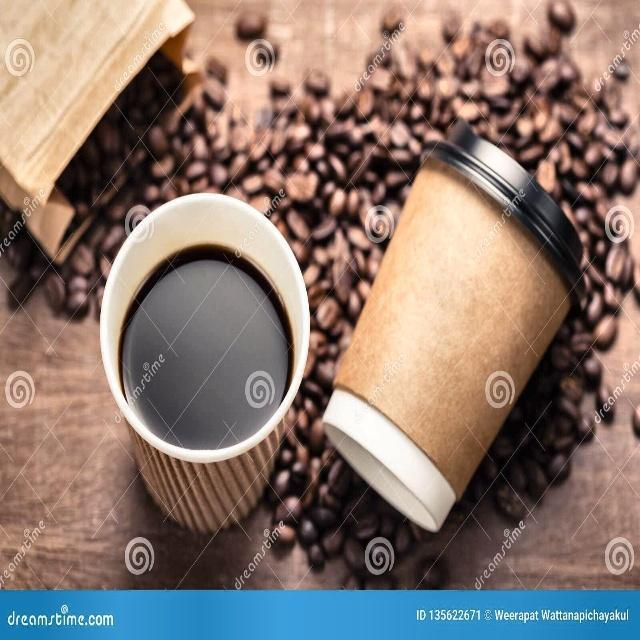paper_cup: (324, 112, 584, 536), (93, 177, 314, 533)
